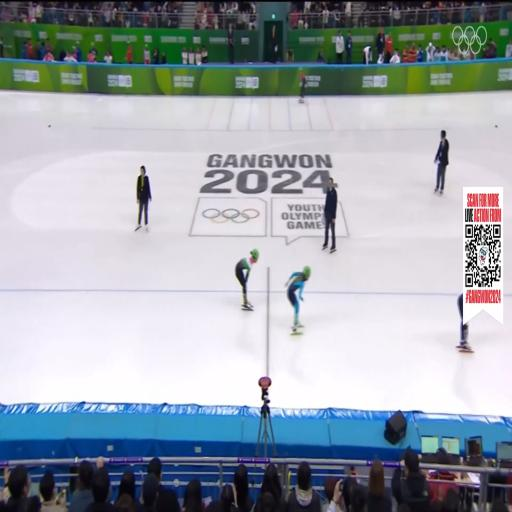Skater: (286, 266, 310, 332), (236, 249, 259, 309), (299, 68, 306, 103)
